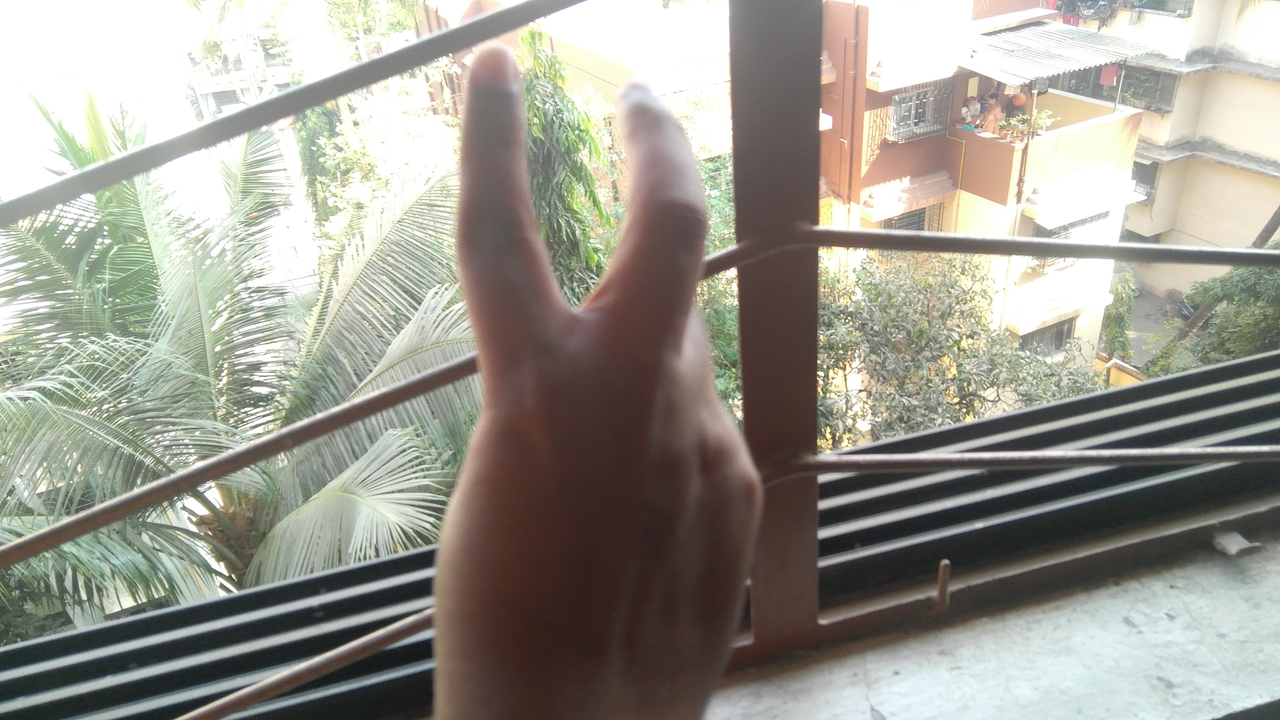fingertip: (458, 36, 520, 102), (612, 80, 678, 142)
